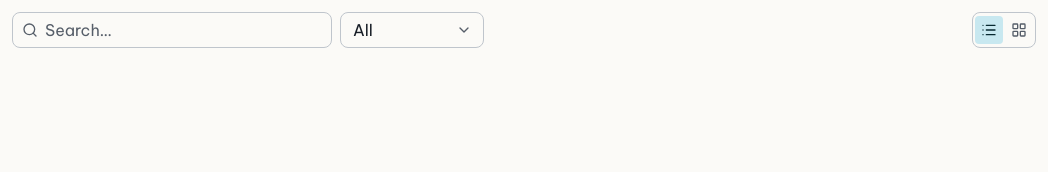
Scenario: DataToolbar › works fully controlled without the router
Select "Active" in the dropdown named "Status" at [412, 30], box left=340, top=12, right=484, bottom=48
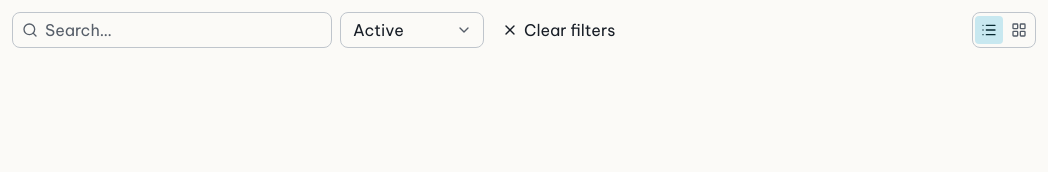
Type "an" into the search field labelled "Search" at [172, 30], box left=12, top=12, right=332, bottom=48
Wait 250 ms
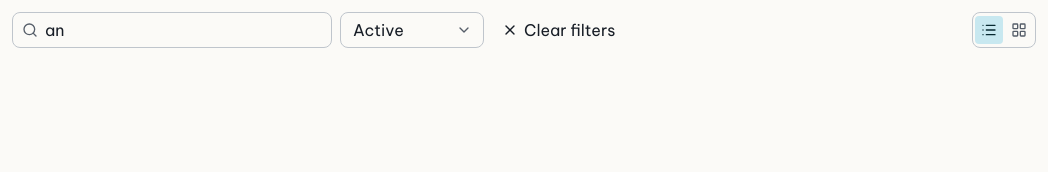
Click the button named "Grid" at [1019, 30], box left=1005, top=16, right=1033, bottom=44
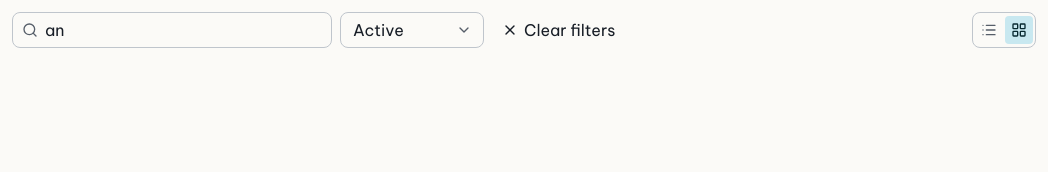
Click the button "Clear filters" at [559, 30], box left=492, top=12, right=625, bottom=48
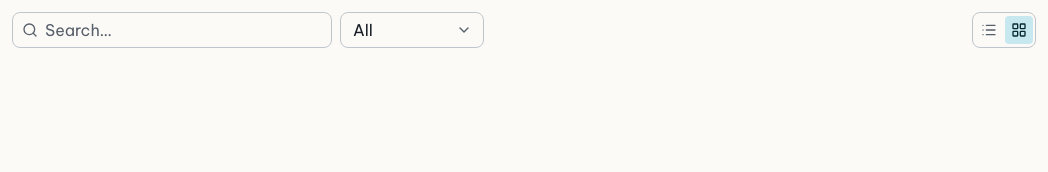
Result: the search field labelled "Search" is empty at left=12, top=12, right=332, bottom=48
